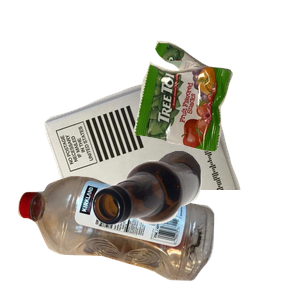glass: (90, 148, 300, 300)
paper: (42, 68, 275, 248)
plastic: (15, 173, 222, 300)
trash: (131, 38, 300, 182)
